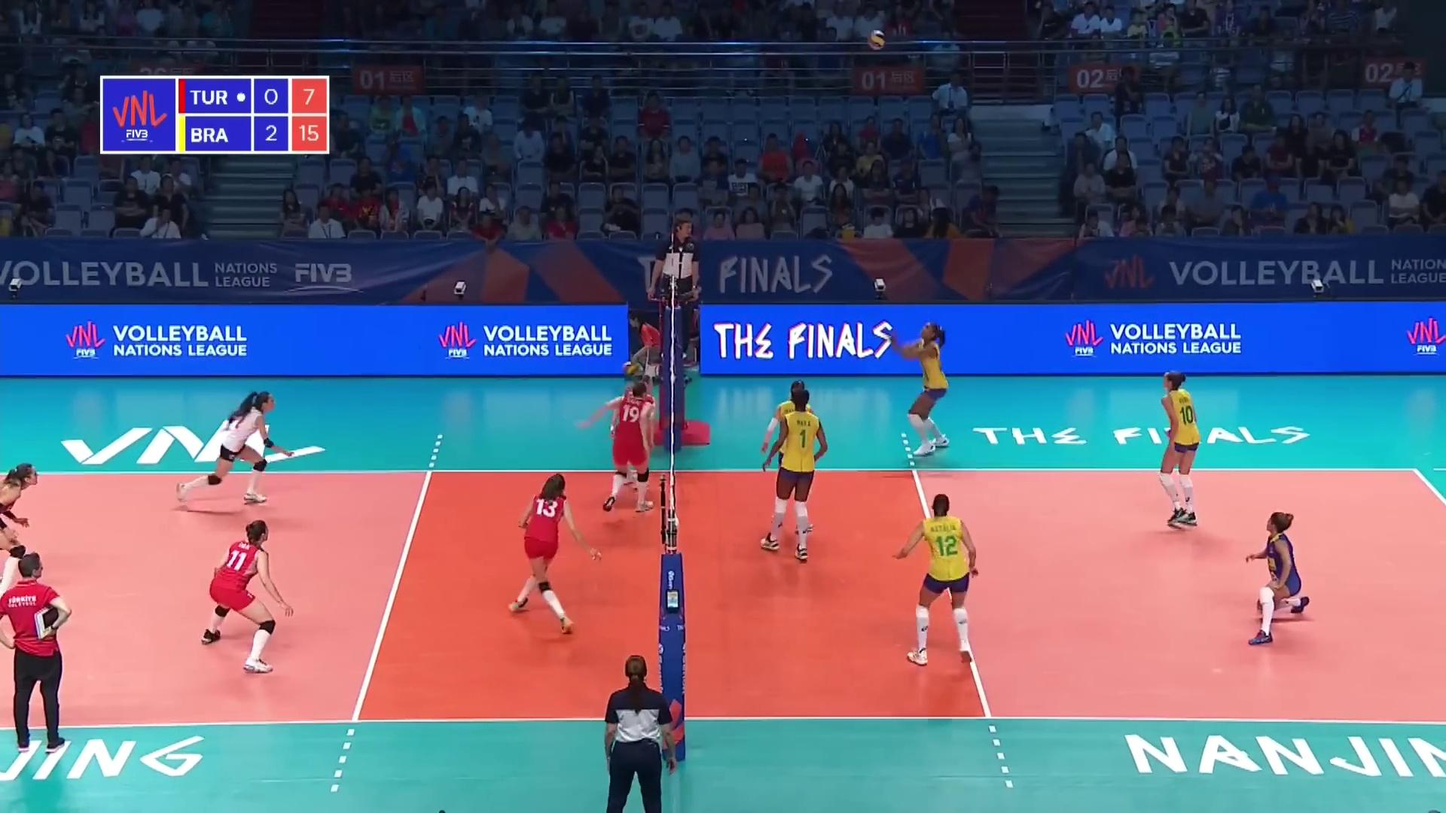player: (897, 498, 986, 669), (174, 393, 298, 509), (197, 524, 291, 675), (514, 473, 600, 632), (764, 389, 829, 560), (1138, 374, 1205, 528), (759, 378, 819, 541), (1243, 516, 1313, 648), (890, 316, 955, 458), (586, 383, 656, 510), (615, 377, 665, 492), (0, 460, 40, 600)
refree: (607, 653, 682, 810), (649, 211, 700, 371)
